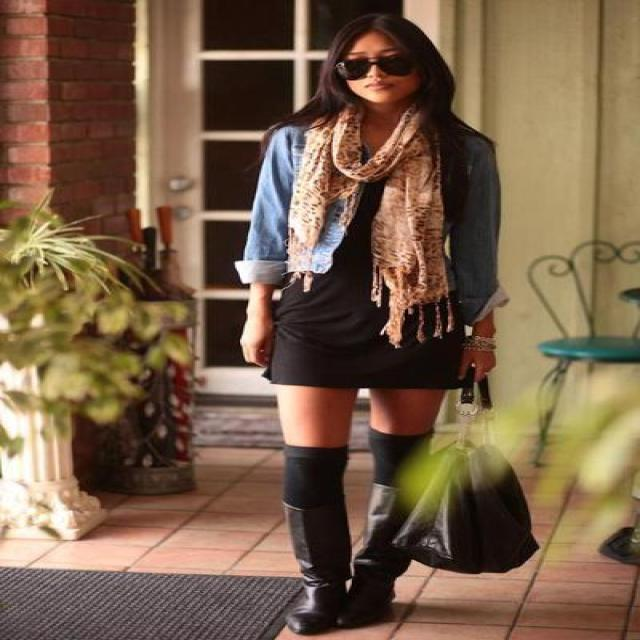bag: (403, 430, 538, 573)
jacket: (232, 126, 499, 319)
shirt: (328, 167, 395, 280)
shoe: (296, 481, 438, 635)
skirt: (249, 269, 476, 391)
sunglass: (326, 47, 416, 88)
